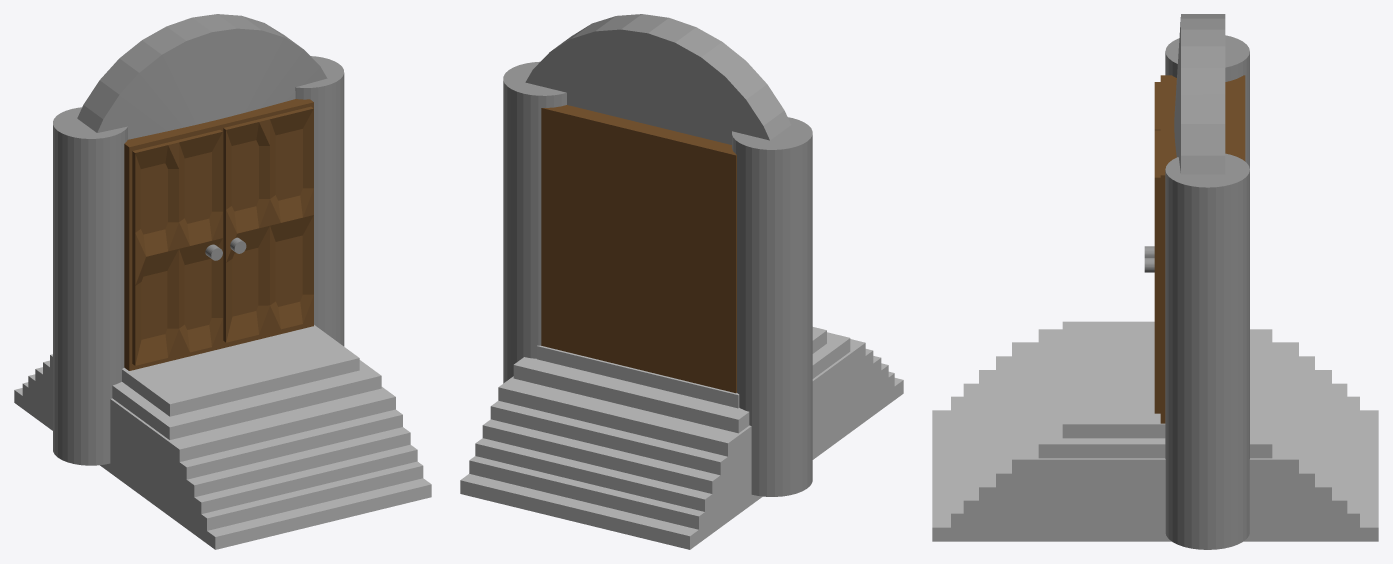
Rendered from dummyfrontdoor.dae.
3 renders of one model, left to right at view 1: azimuth 30°, elevation 25°; view 2: azimuth 150°, elevation 25°; view 3: azimuth 270°, elevation 25°, orthographic. The views are drawn at different scales.
Visible parts, largest first — view 1: Cube_003_007, Cylinder_003, Cube_002, Circle, Cube_001, Cube_000, Cylinder_002; view 2: Cube_003_007, Cube_002, Cylinder_003, Circle, Cylinder_002; view 3: Cube_003_007, Cylinder_002, Circle, Cube_002, Cube_001, Cylinder_003.
Part boxes in pixels (x1,y1,x2,y2): Cube_003_007: (14, 325, 431, 549); Cylinder_003: (53, 107, 127, 465); Cube_002: (124, 99, 313, 370); Circle: (77, 14, 327, 139); Cube_001: (223, 106, 313, 342); Cube_000: (132, 130, 222, 365); Cylinder_002: (295, 56, 344, 346); Cube_003_007: (460, 327, 903, 549); Cube_002: (541, 105, 736, 393); Cylinder_003: (732, 117, 812, 496); Circle: (525, 14, 790, 144); Cylinder_002: (503, 61, 566, 383); Cube_003_007: (932, 321, 1378, 541); Cylinder_002: (1165, 153, 1249, 549); Circle: (1174, 14, 1225, 174); Cube_002: (1160, 75, 1245, 423); Cube_001: (1154, 130, 1160, 413); Cylinder_003: (1165, 35, 1249, 168).
Size of the model in its own units: 8.4 by 10.4 by 11.67.
